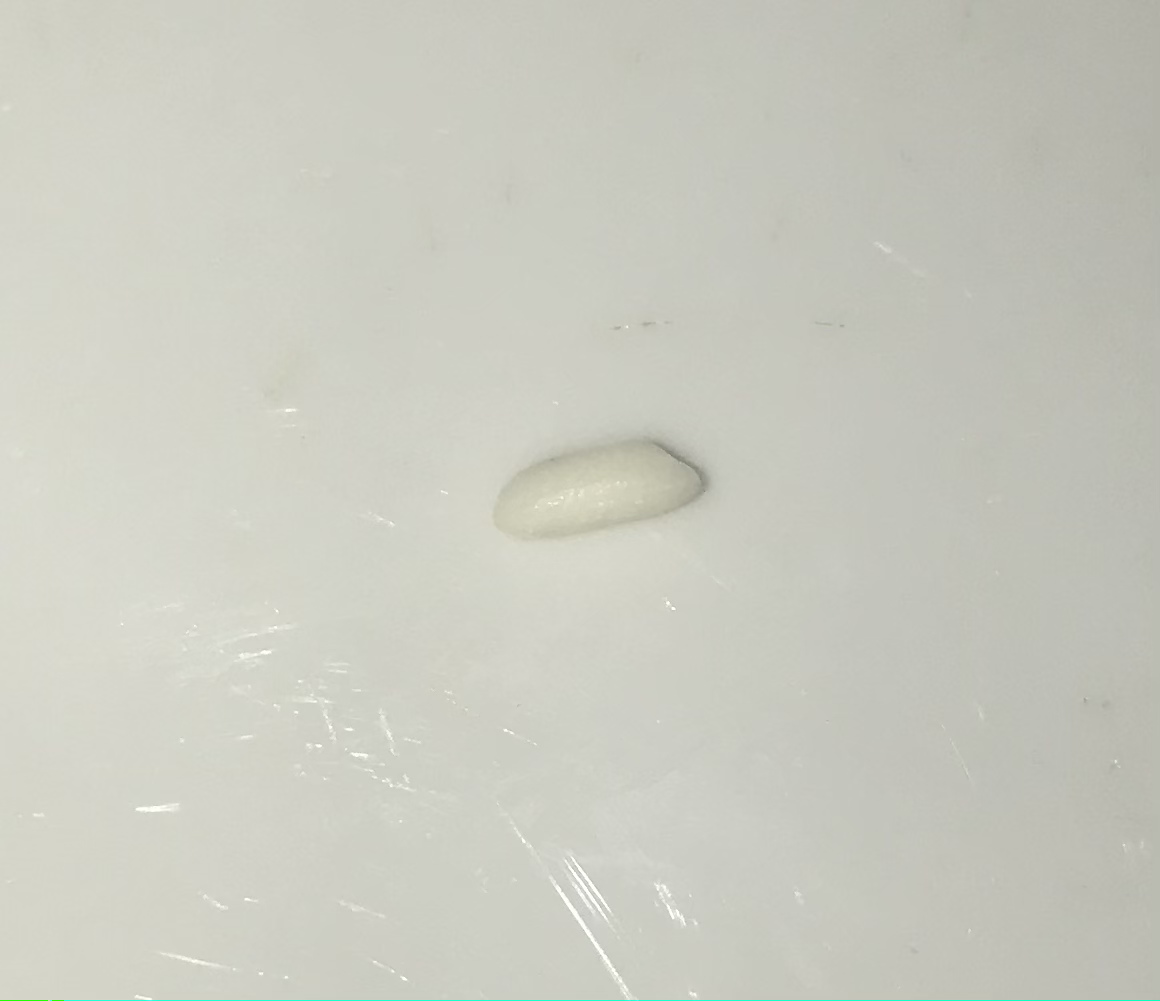Gao Nep Sap: (495, 428, 710, 538)
